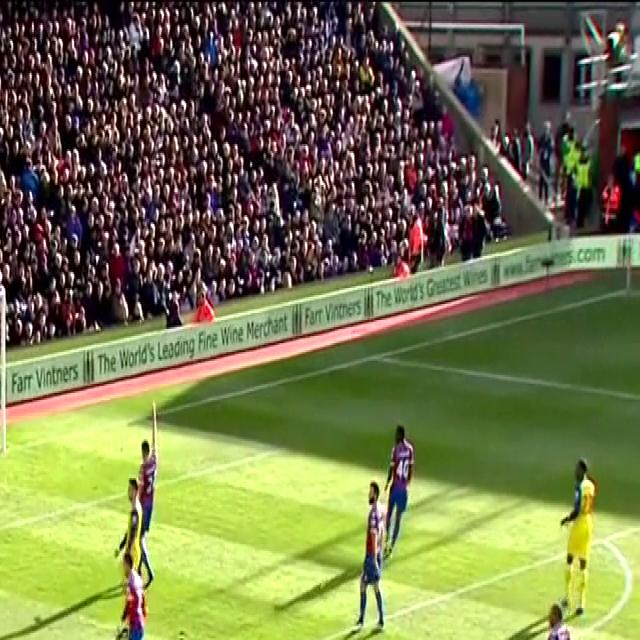referee: (75, 631, 147, 640)
soccer-player: (549, 449, 595, 628), (347, 476, 390, 640), (382, 414, 423, 560), (108, 546, 155, 640), (136, 425, 159, 583), (521, 597, 582, 640)
